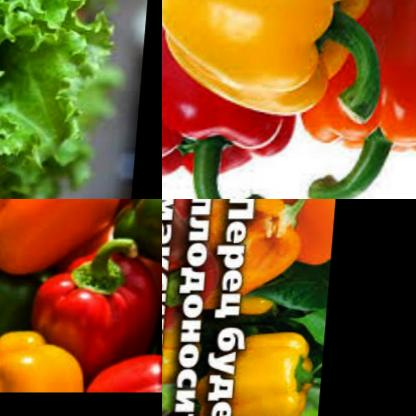bell pepper: (162, 0, 306, 188), (162, 0, 376, 117), (294, 0, 416, 199), (32, 242, 162, 371), (203, 199, 314, 308), (200, 326, 318, 416), (207, 328, 327, 416), (0, 199, 126, 271), (162, 199, 216, 339), (0, 326, 95, 391), (275, 199, 336, 284), (90, 345, 162, 391), (0, 212, 5, 339)
salad: (0, 0, 149, 199)
